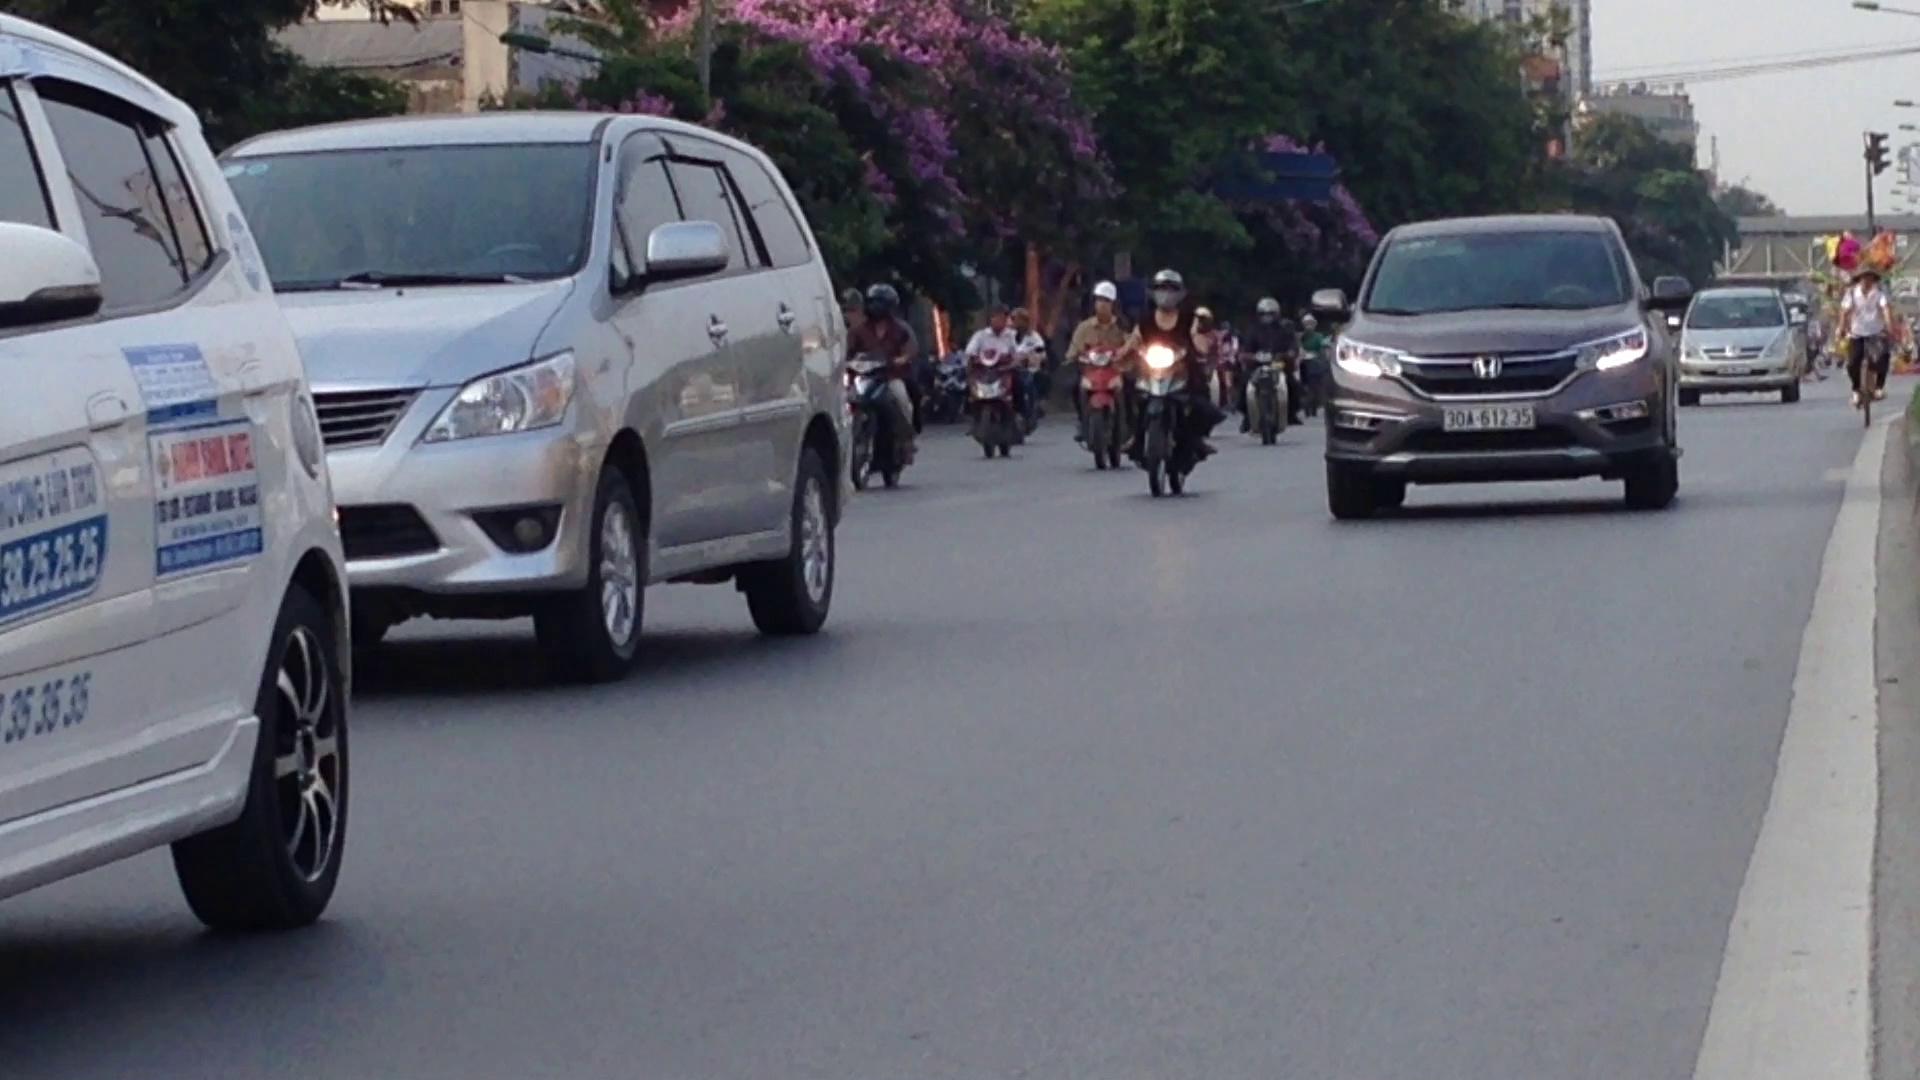vehicle-plate: (1437, 399, 1538, 434)
